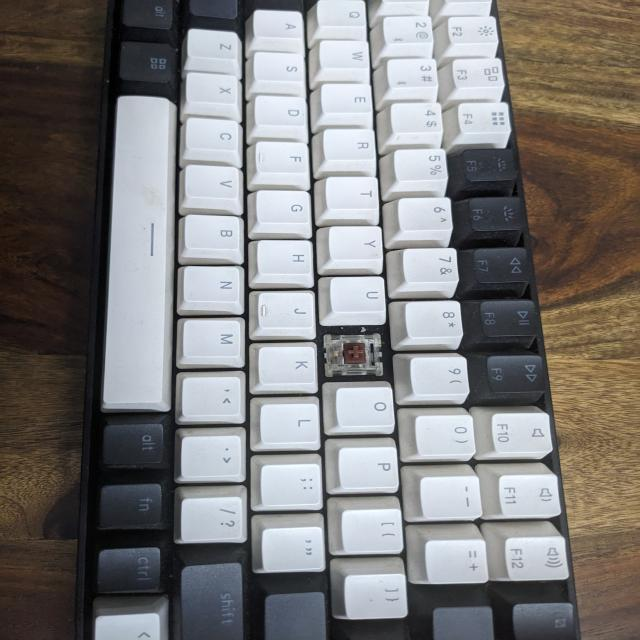C: (322, 327, 389, 381)
